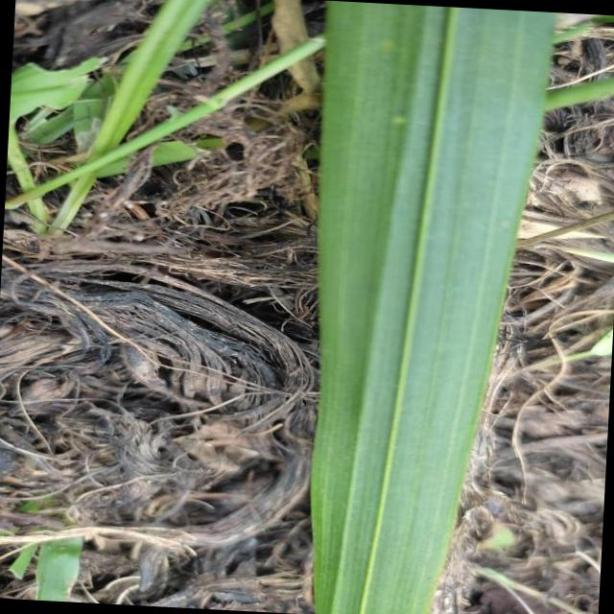Healthy: (315, 0, 556, 614)
